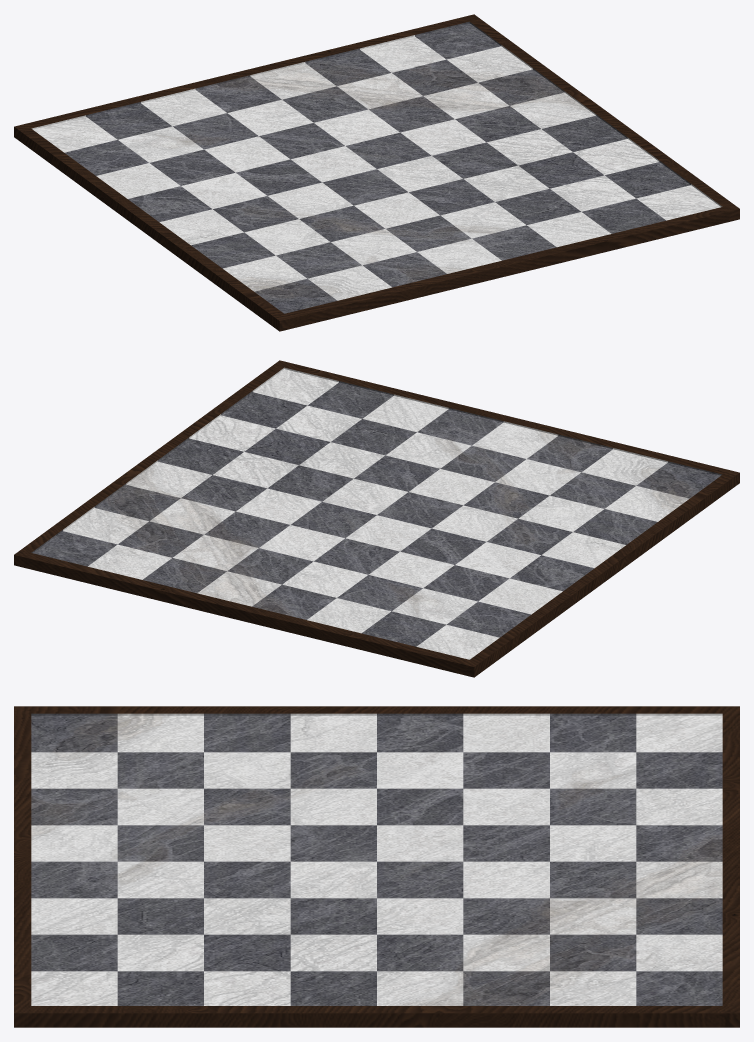
Rendered from board.fbx.
3 renders of one model, top to bottom at view 1: azimuth 30°, elevation 25°; view 2: azimuth 150°, elevation 25°; view 3: azimuth 270°, elevation 25°, orthographic. The views are drawn at different scales.
Visible parts, largest first — view 1: Draughts Board; view 2: Draughts Board; view 3: Draughts Board.
Boxes of the visible parts, left/top/right/bottom form: Draughts Board: left=14, top=14, right=739, bottom=331; Draughts Board: left=14, top=360, right=739, bottom=677; Draughts Board: left=14, top=706, right=739, bottom=1027.
Size of the model in its own units: 56.85 by 1.24 by 56.85.
Materials: 3 (3 with a texture image).
